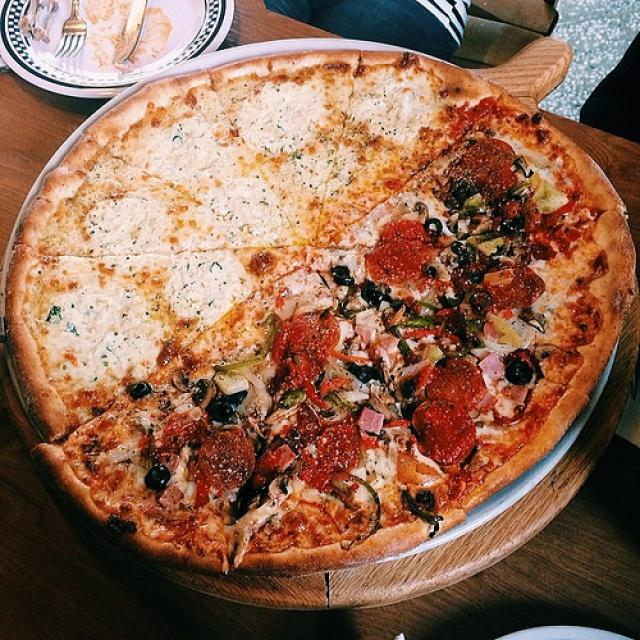Wet Waste: (0, 38, 640, 568)
